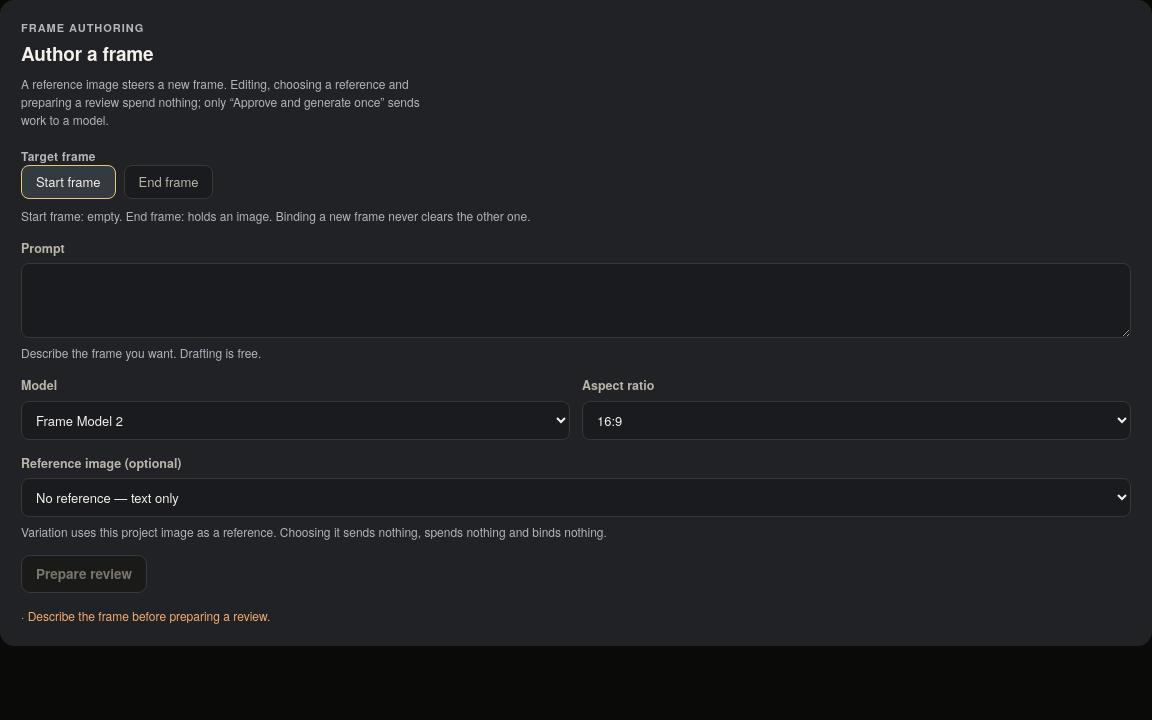
Test case: prepare review sends the frozen draft exactly once and never spends
Click the radio button labelled "End frame" at [169, 182], box [124,165,214,199]
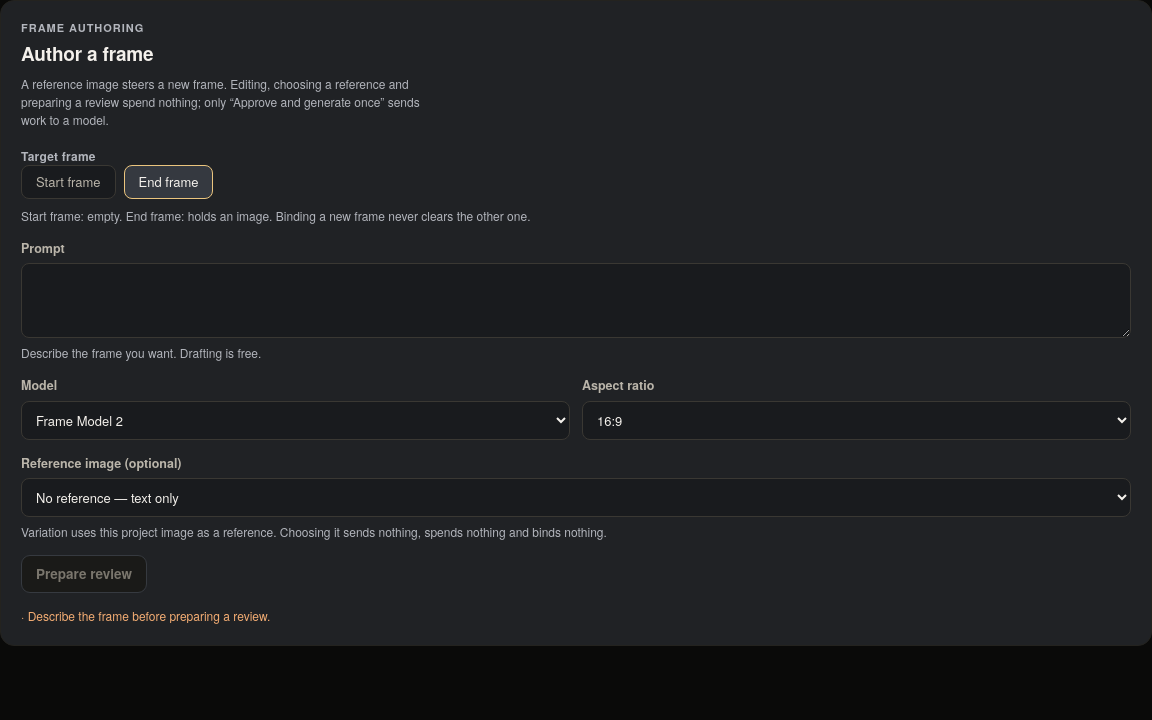
Type "Cold dawn over the ridge" into the text box labelled "Prompt" at [576, 301], box [21,263,1131,338]
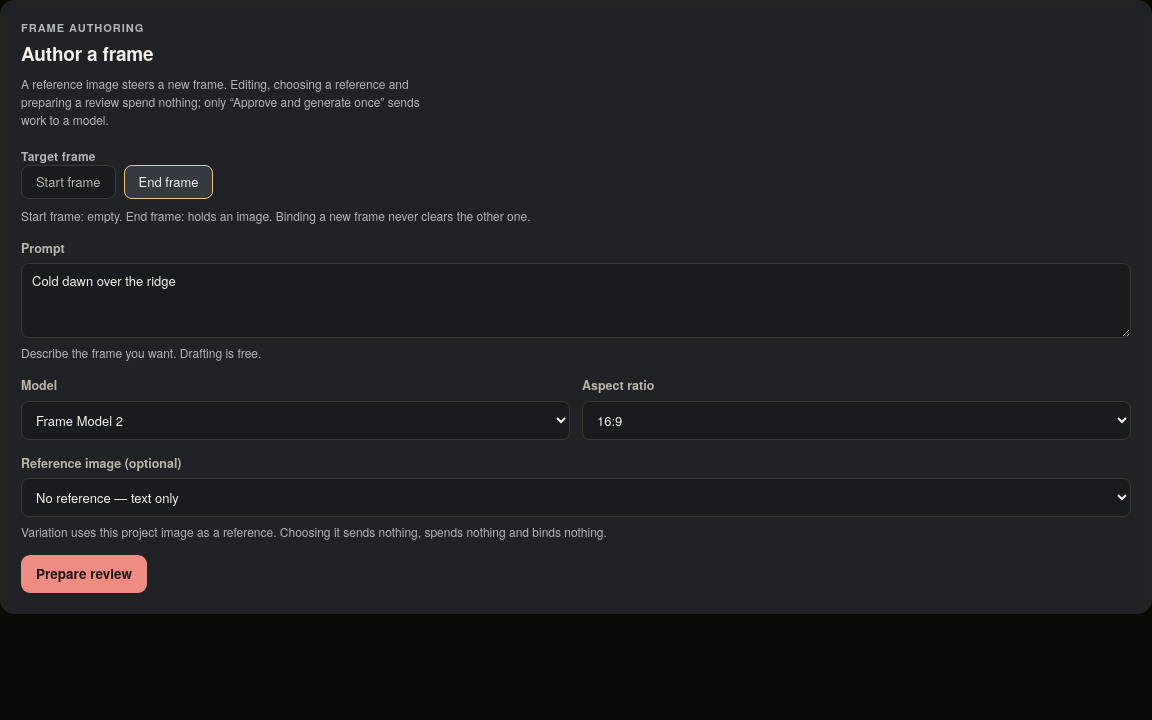
Select "9:16" in the dropdown labelled "Aspect ratio" at [856, 420], box [582,401,1131,440]
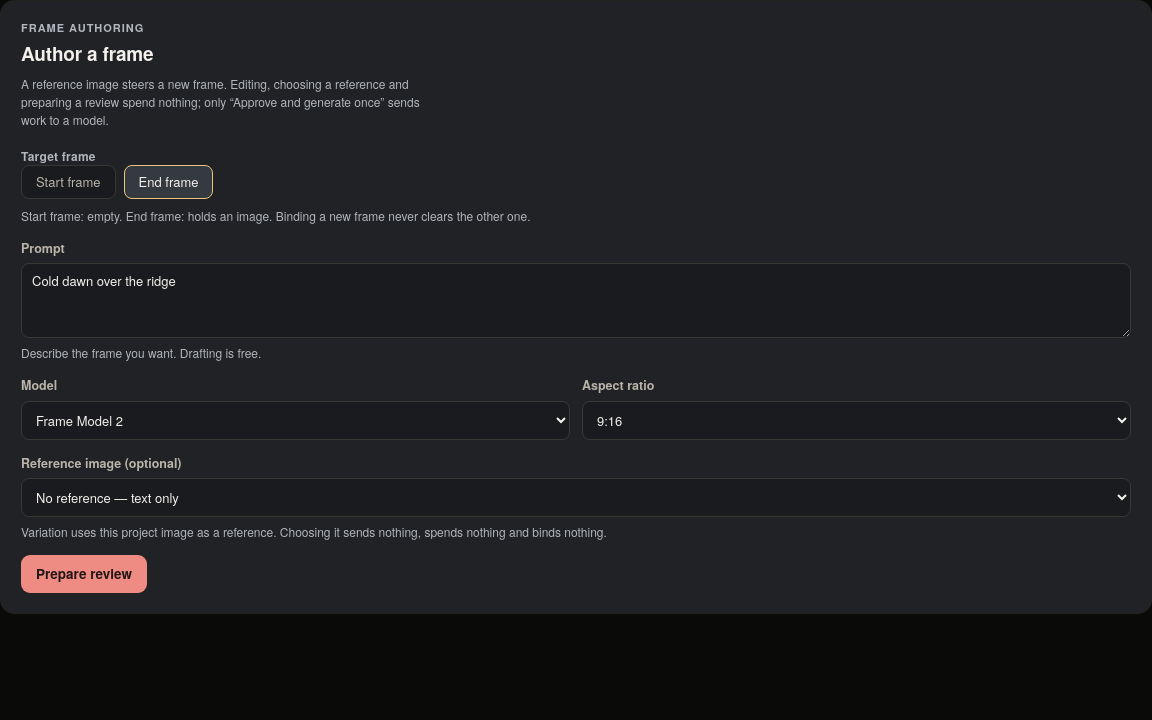
Select "studio-plate.png" in the dropdown labelled "Reference image (optional)" at [576, 498], box [21,478,1131,518]
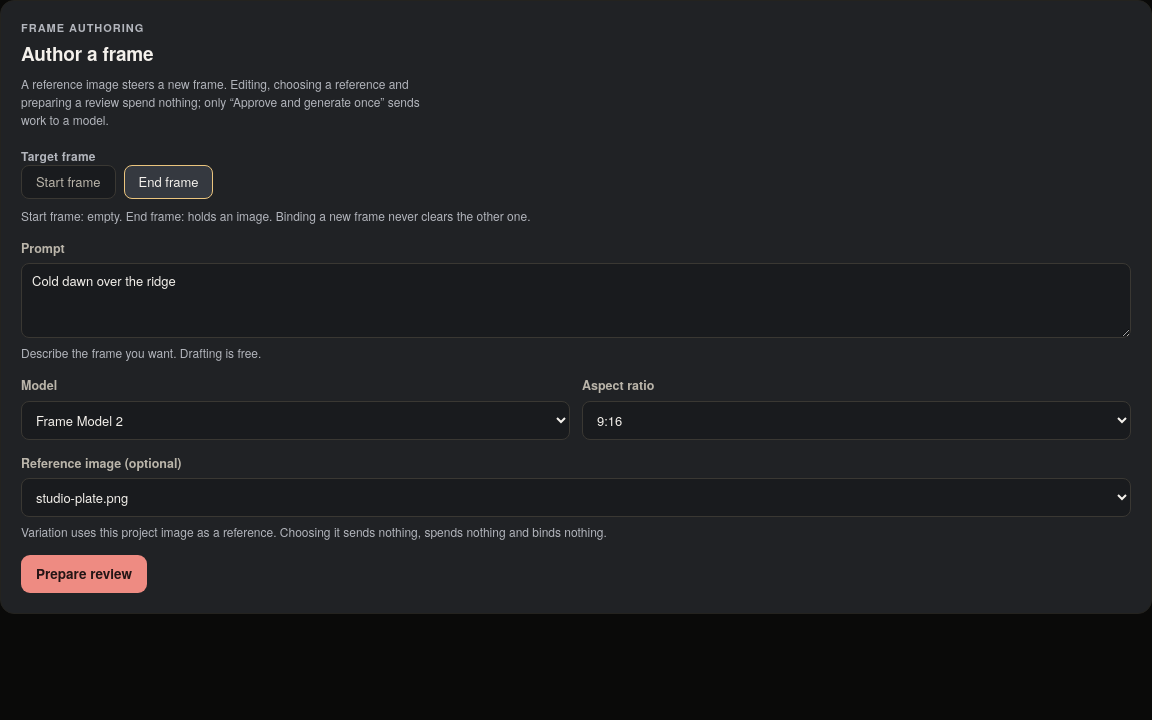
Click the button "Prepare review" at [84, 574], box [21,556,147,594]
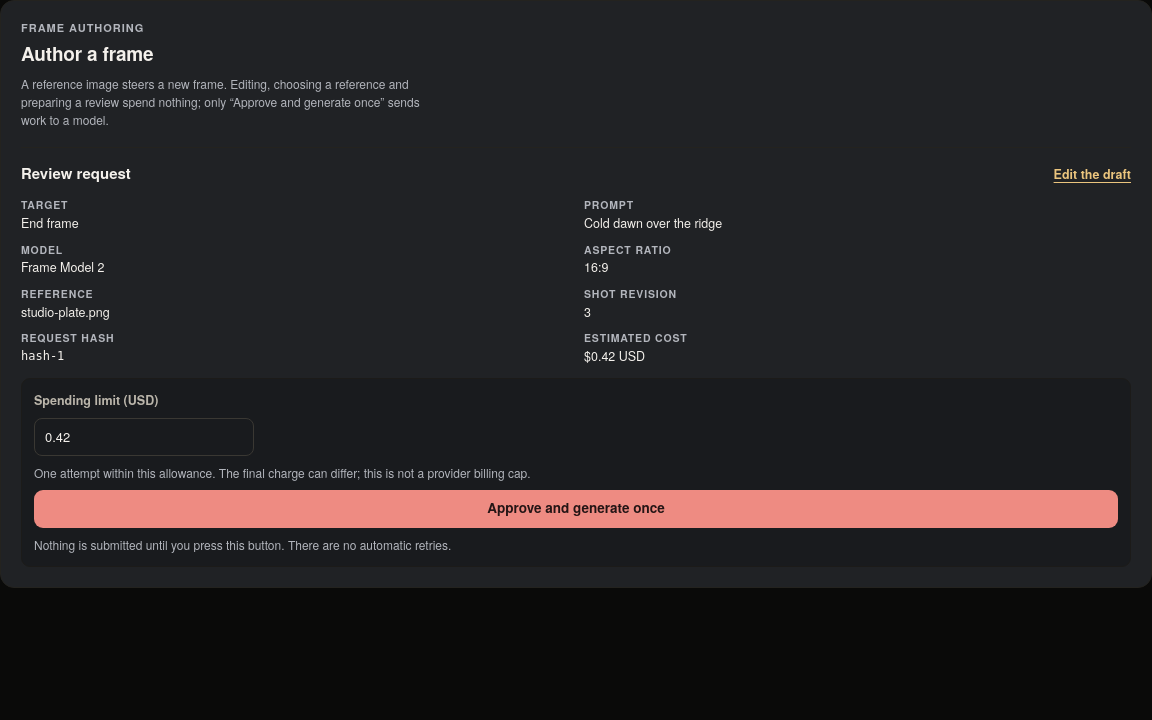
Result: the element "Review request" shows "End frame" at [21,214,79,232]
Result: the element "Review request" shows "studio-plate.png" at [21,303,110,321]
Result: the button "Prepare review" is gone
